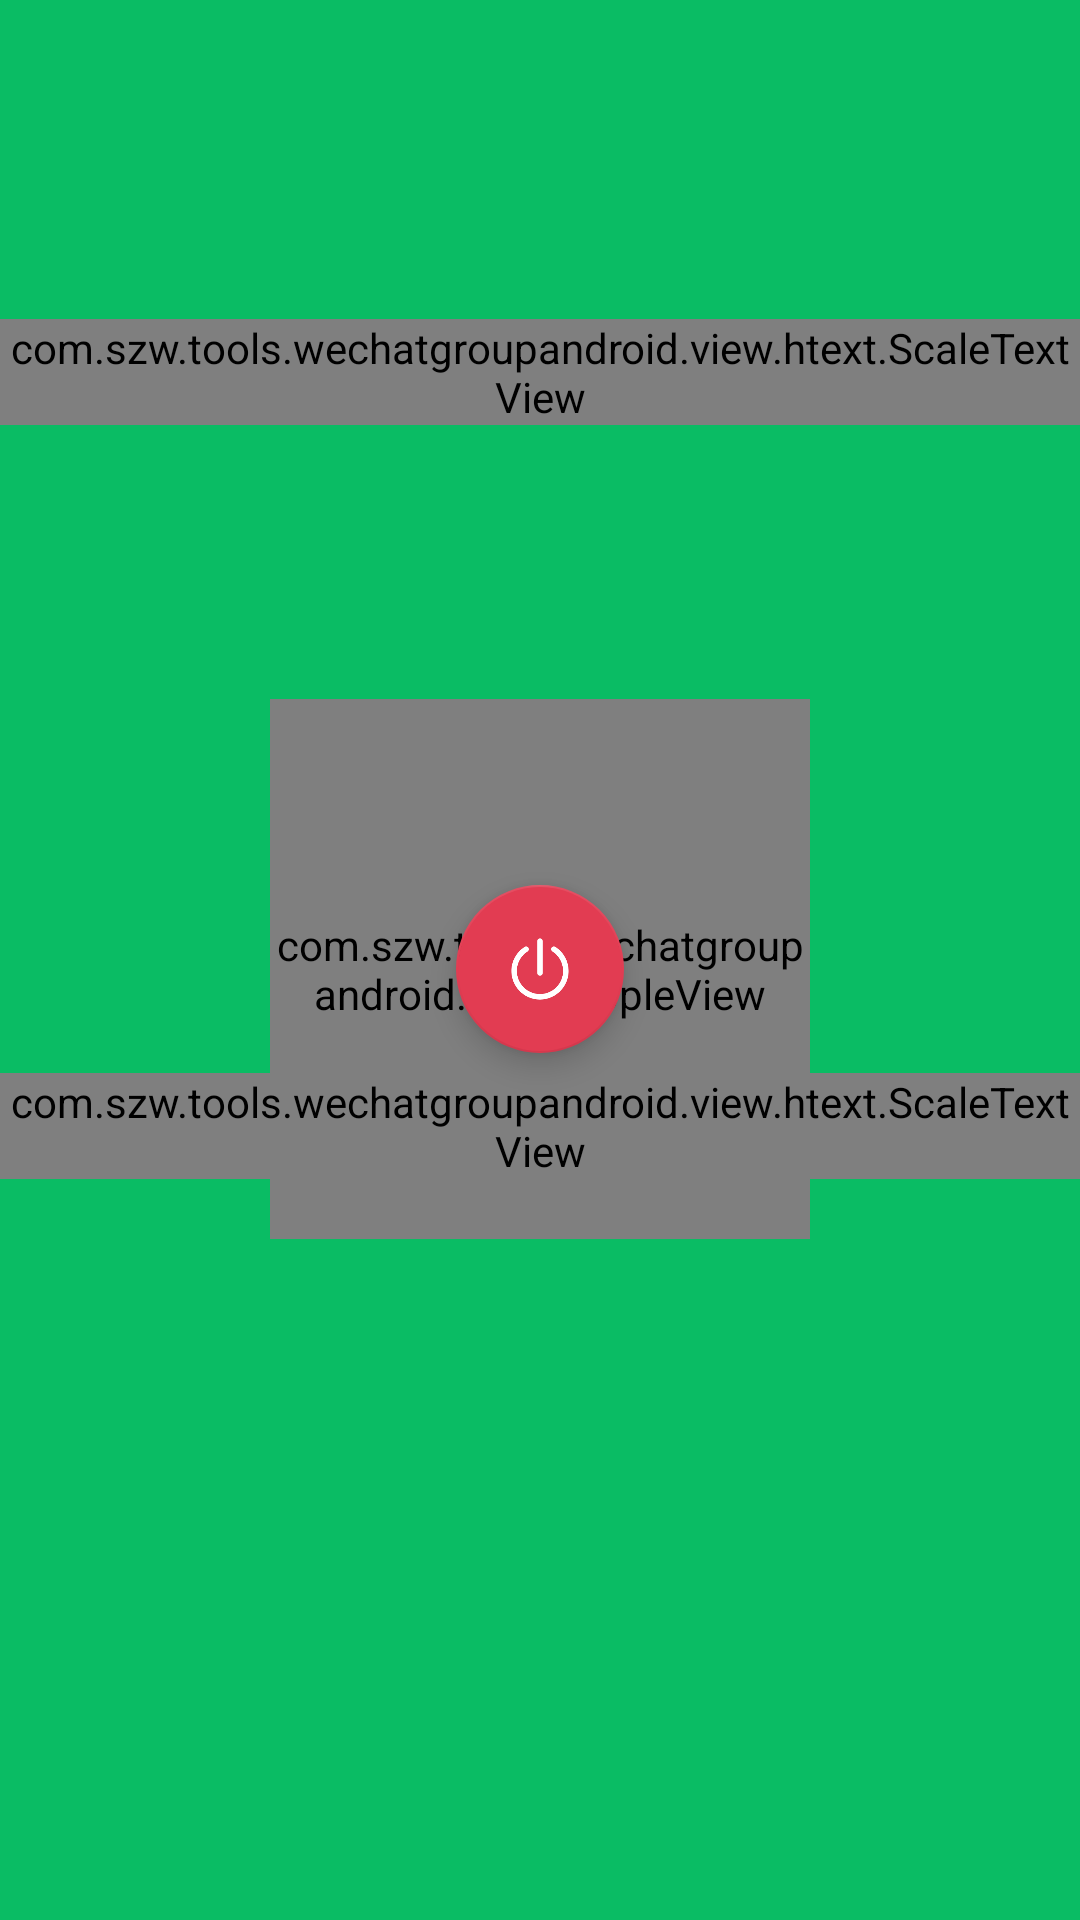

Icons on this 1080 × 1920 Android screen, each with the point to tap as [x,y]:
power off: [540,969]
